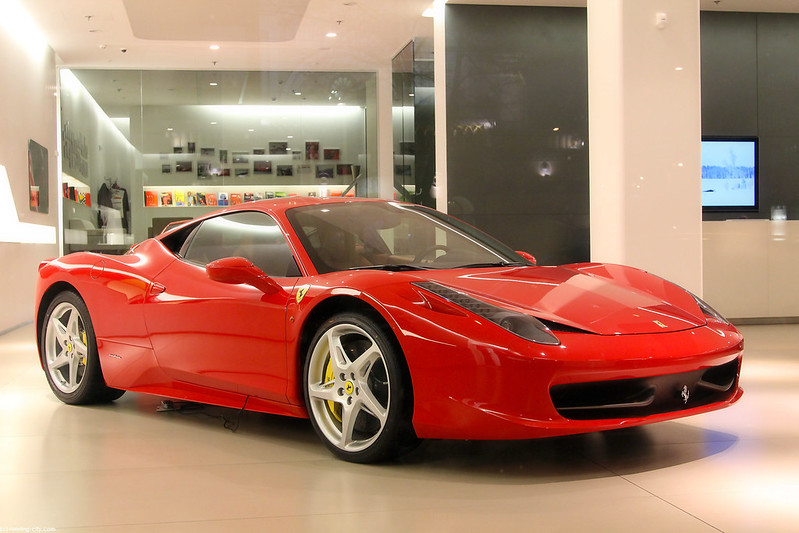car: (27, 193, 753, 472)
